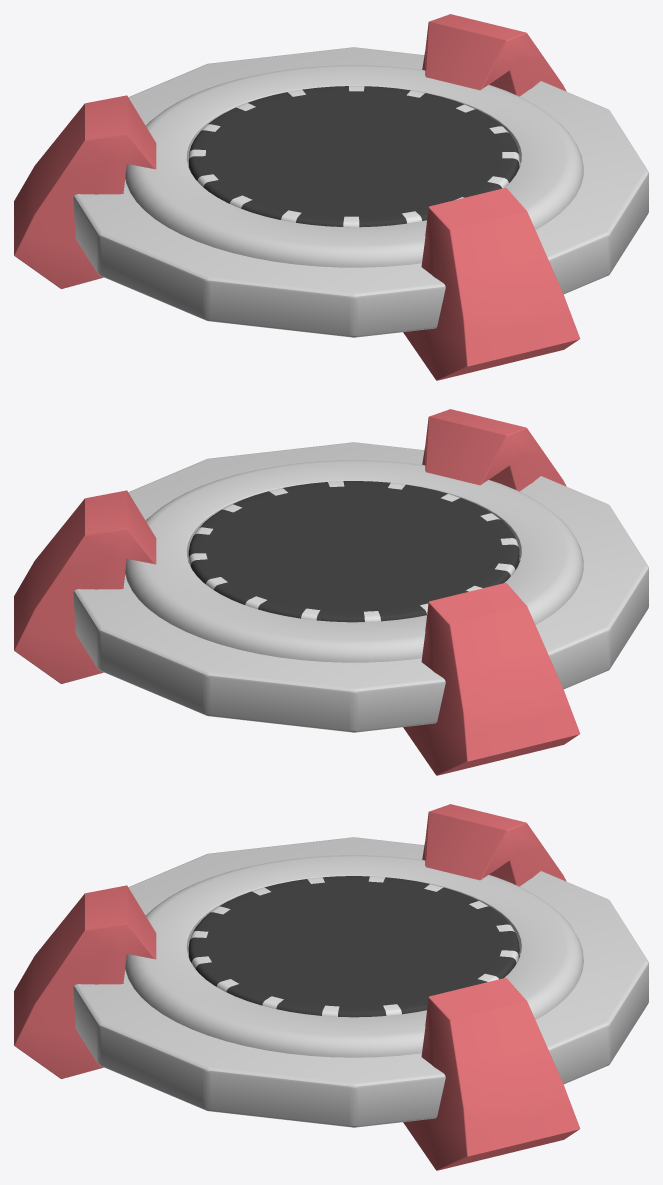
Rendered from Pedestal.fbx.
3 views of the same model, one above another, from view 1: azimuth 30°, elevation 25°; view 2: azimuth 150°, elevation 25°; view 3: azimuth 270°, elevation 25° (orthographic).
Parts seen in each view (by area): view 1: Ring.001, Center, Ring, Retainer, Retainer.002, Retainer.001; view 2: Ring.001, Center, Ring, Retainer.002, Retainer.001, Retainer; view 3: Ring.001, Center, Ring, Retainer.001, Retainer, Retainer.002.
Part boxes in pixels (bbox=[...]): Ring.001: bbox=[73, 47, 648, 337]; Center: bbox=[188, 86, 519, 227]; Ring: bbox=[125, 65, 583, 267]; Retainer: bbox=[403, 188, 580, 380]; Retainer.002: bbox=[14, 95, 156, 288]; Retainer.001: bbox=[422, 14, 566, 96]; Ring.001: bbox=[73, 442, 648, 732]; Center: bbox=[188, 481, 519, 622]; Ring: bbox=[125, 460, 583, 662]; Retainer.002: bbox=[403, 583, 580, 775]; Retainer.001: bbox=[14, 490, 156, 683]; Retainer: bbox=[422, 409, 566, 491]; Ring.001: bbox=[73, 837, 648, 1127]; Center: bbox=[188, 876, 519, 1017]; Ring: bbox=[125, 855, 583, 1057]; Retainer.001: bbox=[403, 978, 580, 1170]; Retainer: bbox=[14, 885, 156, 1078]; Retainer.002: bbox=[422, 804, 566, 886].
Size of the model in its own units: 2.84 by 2.76 by 0.6901.
